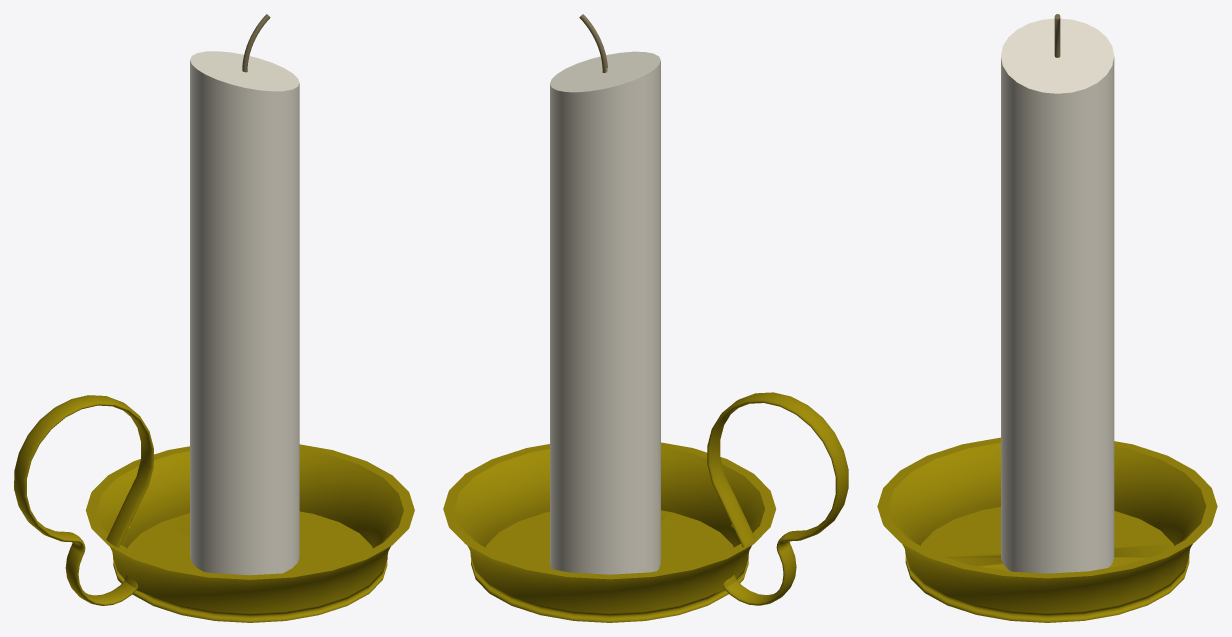
The model's file is candle_on_oldfashioned_holder.fbx.
3 renders of one model, left to right at view 1: azimuth 30°, elevation 25°; view 2: azimuth 150°, elevation 25°; view 3: azimuth 270°, elevation 25°, orthographic. The views are drawn at different scales.
Visible parts, largest first — view 1: candle, candle_holder, candle_holder_interior; view 2: candle, candle_holder, candle_holder_interior; view 3: candle, candle_holder_interior, candle_holder.
Boxes of the visible parts, x1,y1,x2,y2 form: candle: (190, 14, 299, 575); candle_holder: (14, 395, 414, 622); candle_holder_interior: (96, 449, 403, 573); candle: (550, 14, 660, 574); candle_holder: (443, 392, 848, 622); candle_holder_interior: (454, 447, 764, 570); candle: (1001, 14, 1114, 573); candle_holder_interior: (888, 442, 1206, 571); candle_holder: (877, 437, 1217, 622).
Size of the model in its own units: 0.6634 by 0.9205 by 0.504.
